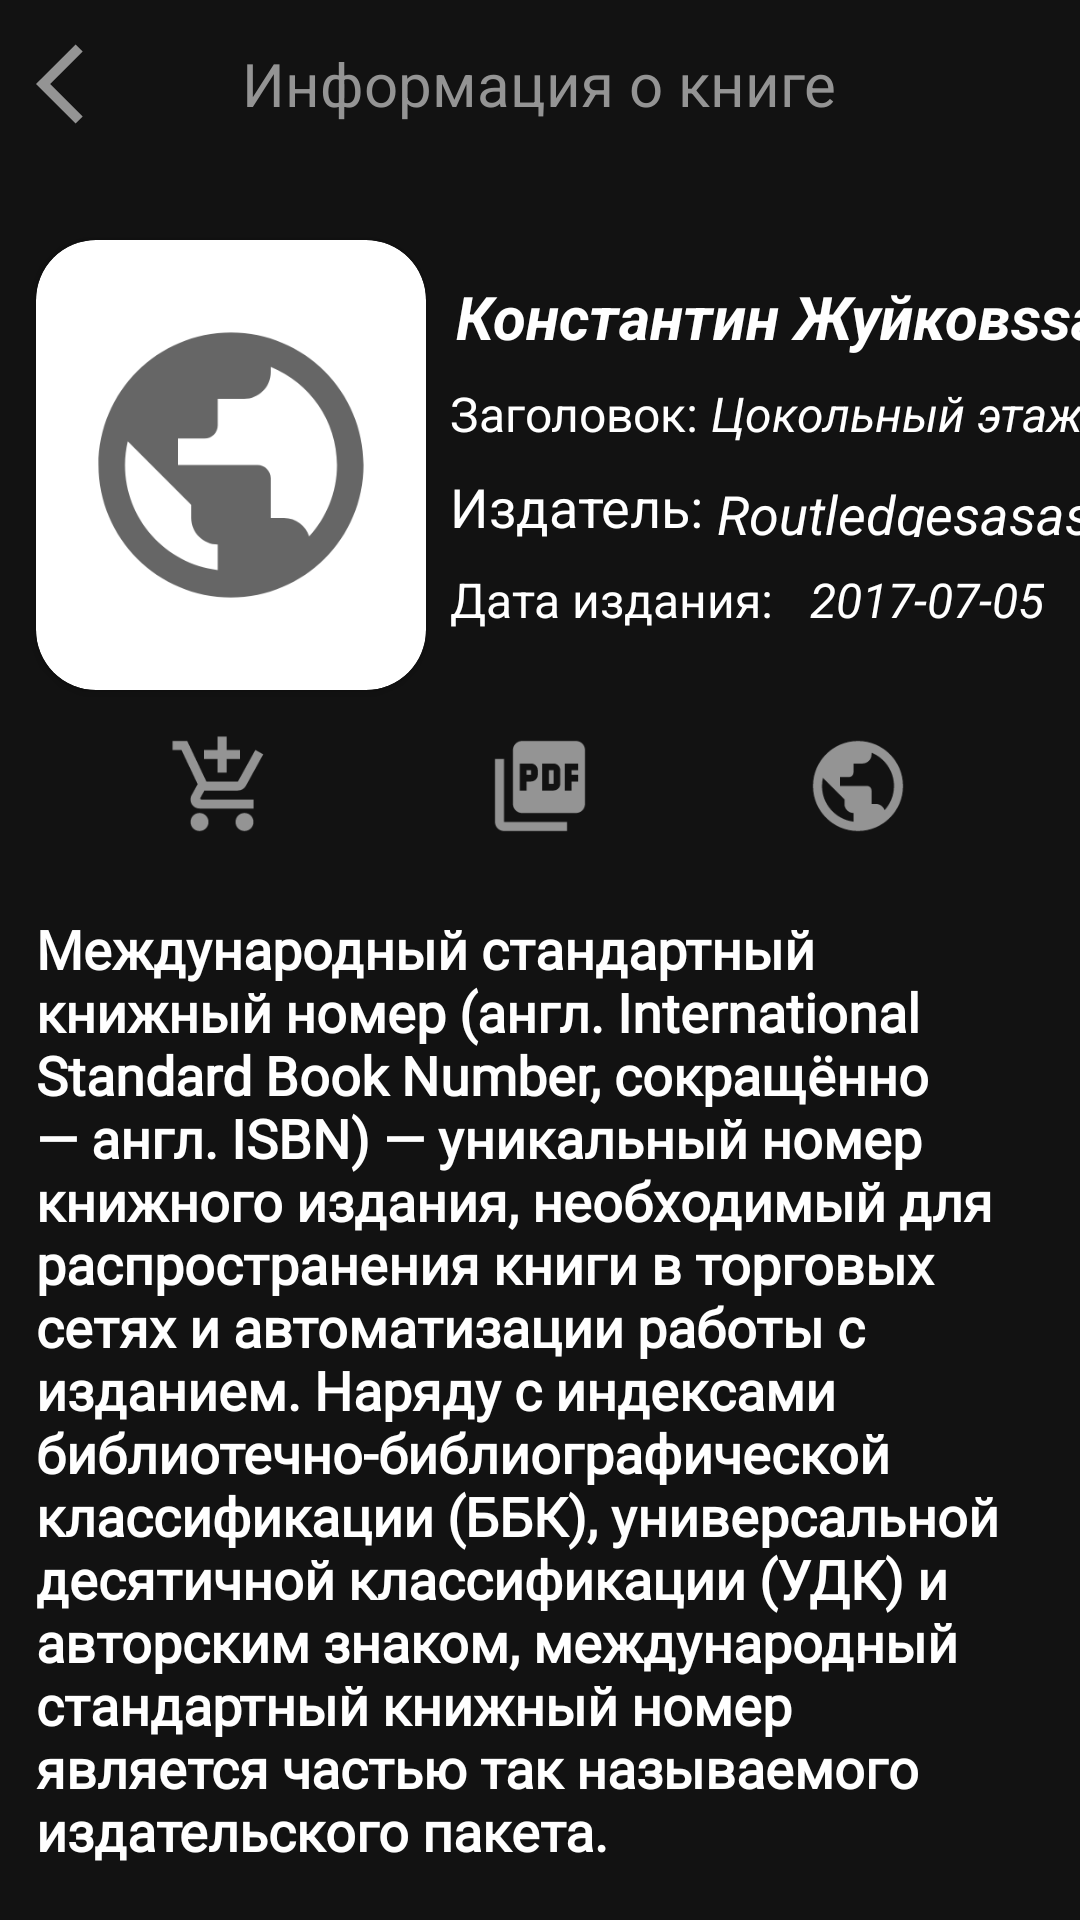

Named icons in this screenshot (1080x1920) and their centers, point (x, y):
add shopping cart: point (217, 783)
arrow back: point (59, 84)
picture as pdf: point (540, 786)
public: point (231, 465), point (858, 786)
